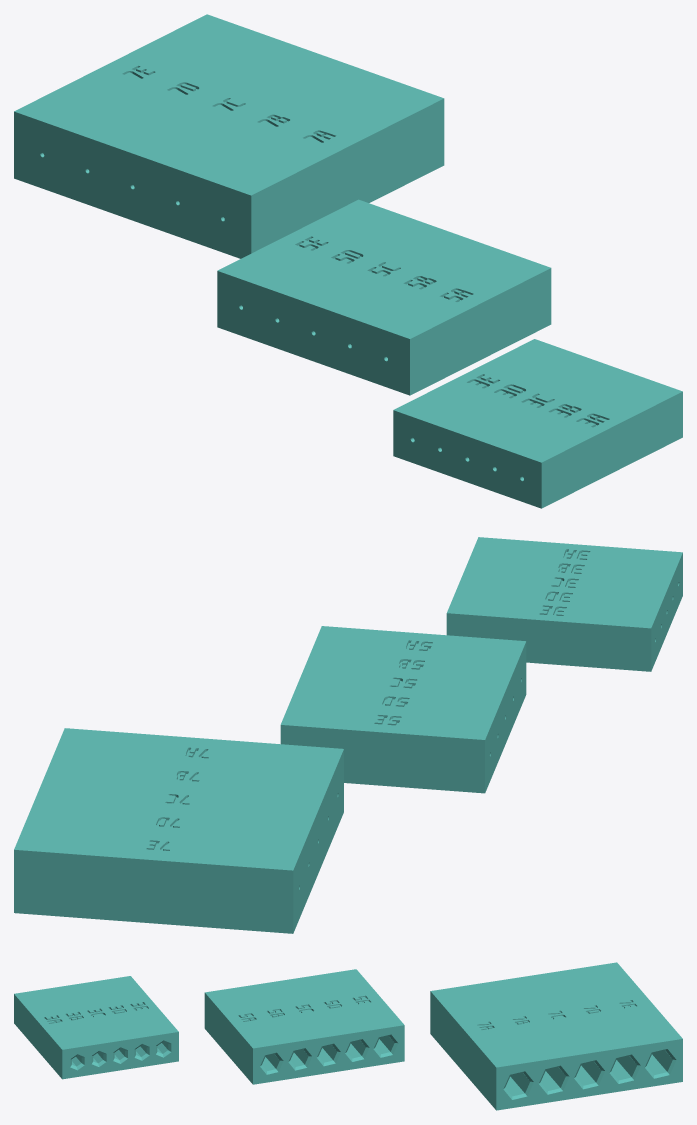
The model's file is coupon.glb.
The picture shows the model from 3 angles, top to bottom: view 1: azimuth 30°, elevation 25°; view 2: azimuth 150°, elevation 25°; view 3: azimuth 270°, elevation 25°; orthographic projection. The views are drawn at different scales.
Parts seen in each view (by area): view 1: Three five-slot fit spectra; view 2: Three five-slot fit spectra; view 3: Three five-slot fit spectra.
Boxes of the visible parts, x1,y1,x2,y2 form: Three five-slot fit spectra: (14,14,682,508); Three five-slot fit spectra: (14,537,682,933); Three five-slot fit spectra: (14,962,682,1110).
Bounding box in the file's own units: 0.0773 × 0.0147 × 0.2077.
